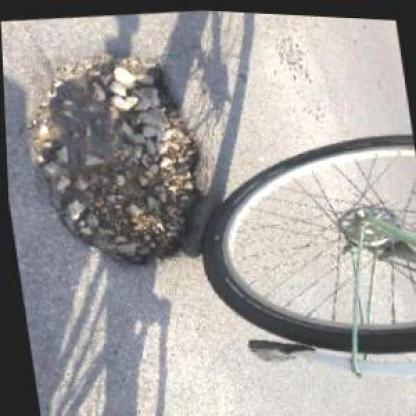pothole: (16, 40, 218, 280)
